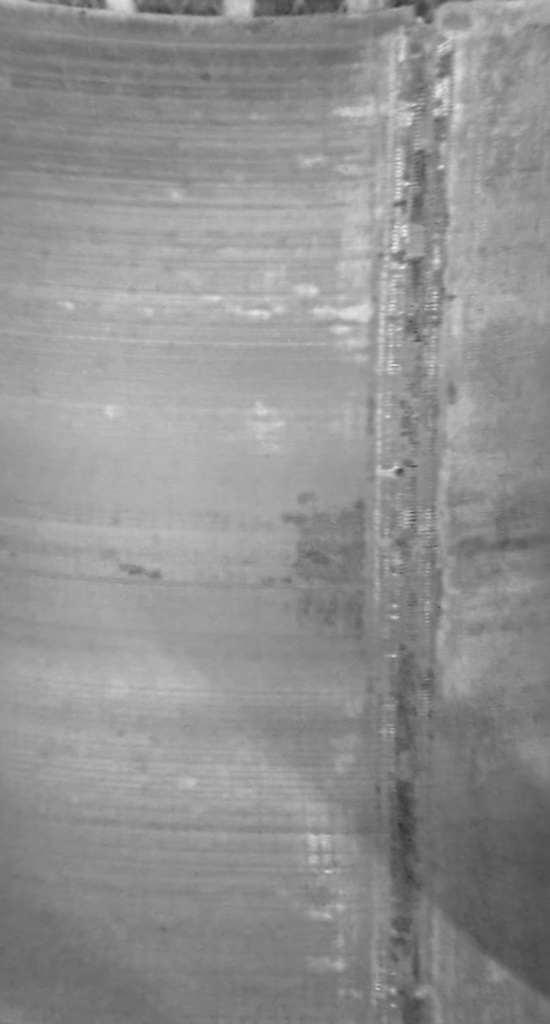splice: (364, 1, 461, 1020)
